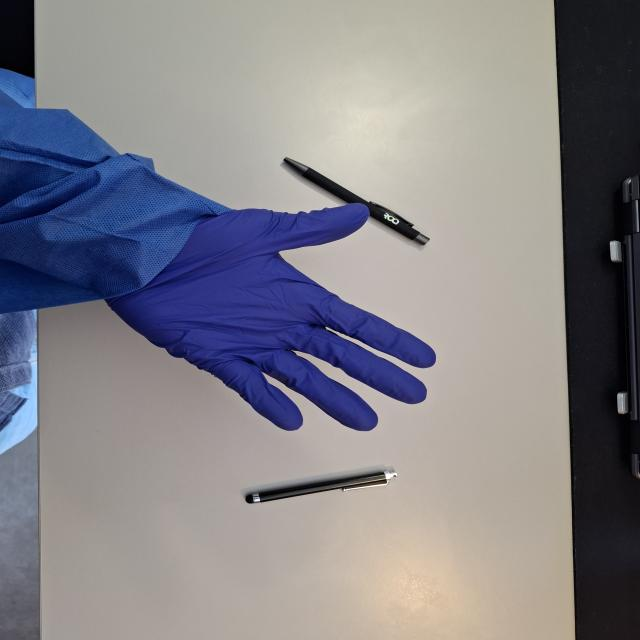glove_on: (101, 200, 438, 430)
